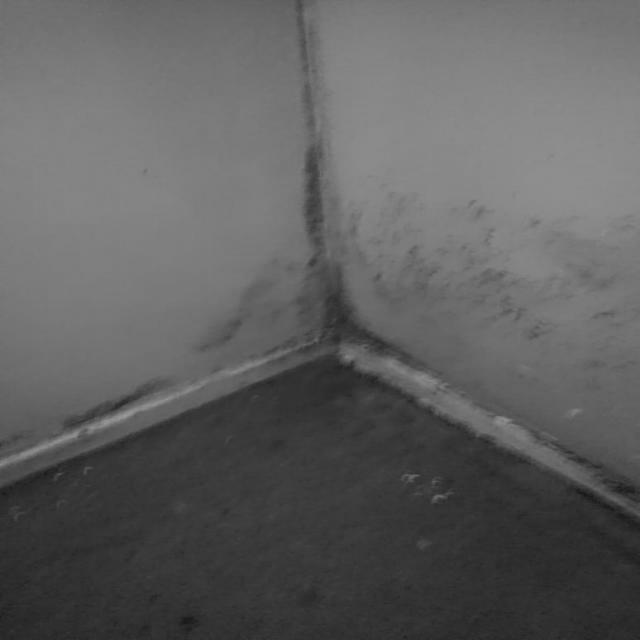stain marks: (348, 188, 640, 340), (288, 0, 354, 361), (47, 376, 193, 450), (194, 255, 284, 365), (531, 436, 640, 504), (566, 342, 637, 400), (344, 342, 458, 374)
